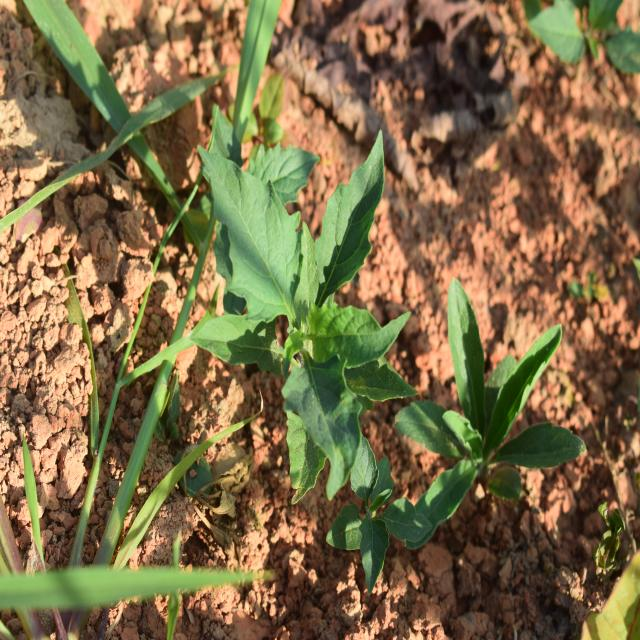Black_nightshade: (203, 142, 419, 474)
